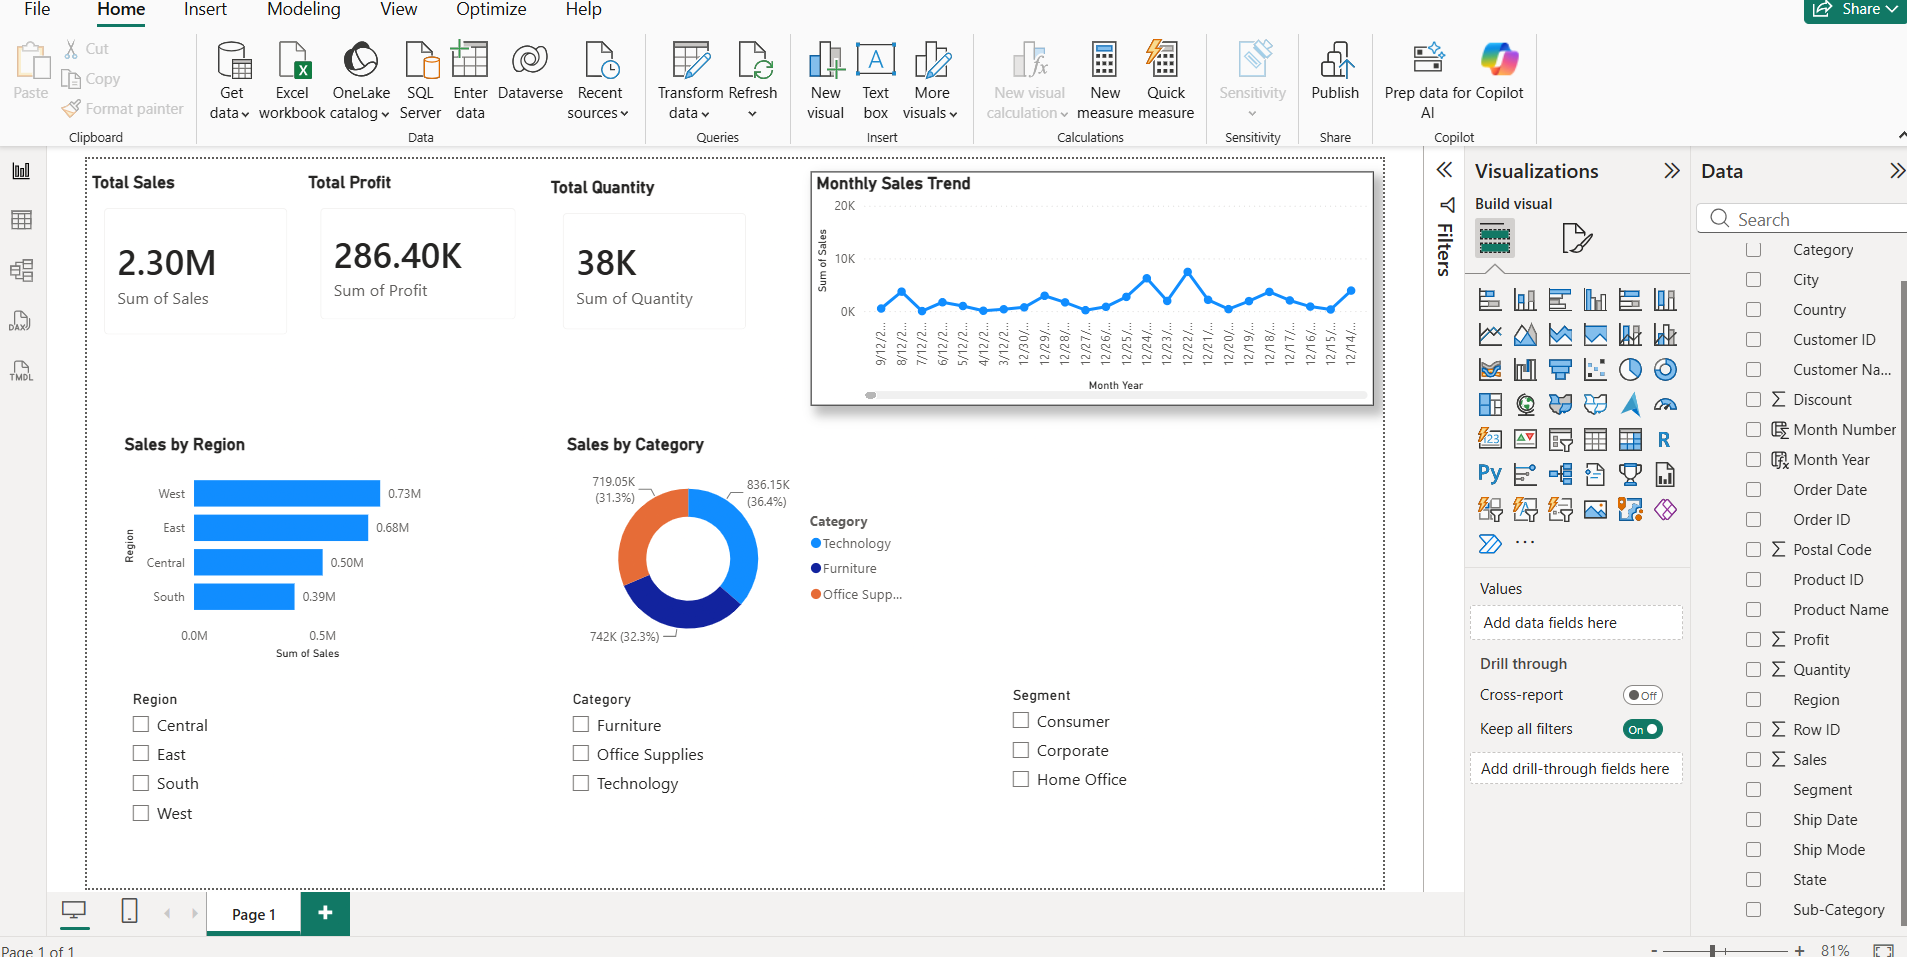

This screenshot's page, from the dashboard's own definition file:
{"tool":"powerbi","page":{"name":"Page 1","canvas":[1280,720],"ordinal":0},"visuals":[{"type":"cardVisual","title":"Total Profit","fields":{"Data":["Sum(Sample - Superstore.Profit)"]},"box":[213.8,12.5,227.5,163.8],"z":1},{"type":"clusteredBarChart","title":"Sales by Region","fields":{"Category":["Sample - Superstore.Region"],"Y":["Sum(Sample - Superstore.Sales)"]},"box":[32.5,271.2,317.5,227.5],"z":2},{"type":"donutChart","title":"Sales by Category","fields":{"Category":["Sample - Superstore.Category"],"Y":["Sum(Sample - Superstore.Sales)"]},"box":[468.8,271.2,353.8,227.5],"z":3},{"type":"lineChart","title":"Monthly Sales Trend","fields":{"Y":["Sum(Sample - Superstore.Sales)"],"Category":["Sample - Superstore.Month Year"]},"box":[715,12.5,556.2,231.2],"z":4},{"type":"slicer","fields":{"Values":["Sample - Superstore.Region"]},"box":[32.5,520,363.8,200],"z":5},{"type":"slicer","fields":{"Values":["Sample - Superstore.Category"]},"box":[466.2,520,346.2,200],"z":6},{"type":"slicer","fields":{"Values":["Sample - Superstore.Segment"]},"box":[901.2,516.2,362.5,203.8],"z":7},{"type":"cardVisual","title":"Total Sales","fields":{"Data":["Sum(Sample - Superstore.Sales)"]},"box":[0,12.5,215,178.8],"z":8},{"type":"cardVisual","fields":{"Data":["Sum(Sample - Superstore.Quantity)"]},"box":[452.5,17.5,215,168.8],"z":10}]}

Visuals, with their boxes on the page's 1280x720 design canvas (x1, y1, x2, y2). These are canvas units, not pixel positions in the 1907x957 screenshot, which may show the page scaled, cropped or inside an application window:
"Total Profit" cardVisual: (214,12,441,176)
"Sales by Region" clusteredBarChart: (32,271,350,499)
"Sales by Category" donutChart: (469,271,823,499)
"Monthly Sales Trend" lineChart: (715,12,1271,244)
slicer - Sample - Superstore.Region: (32,520,396,720)
slicer - Sample - Superstore.Category: (466,520,812,720)
slicer - Sample - Superstore.Segment: (901,516,1264,720)
"Total Sales" cardVisual: (0,12,215,191)
cardVisual - Sum(Sample - Superstore.Quantity): (452,18,668,186)
